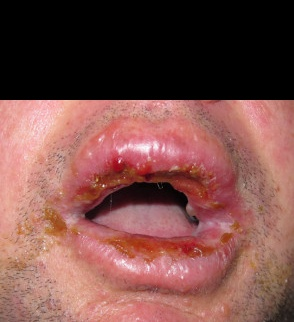SJS-TEN: (7, 113, 265, 322)
